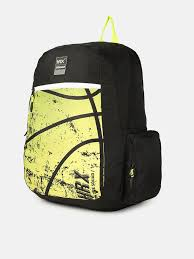backpack: (22, 15, 162, 211)
